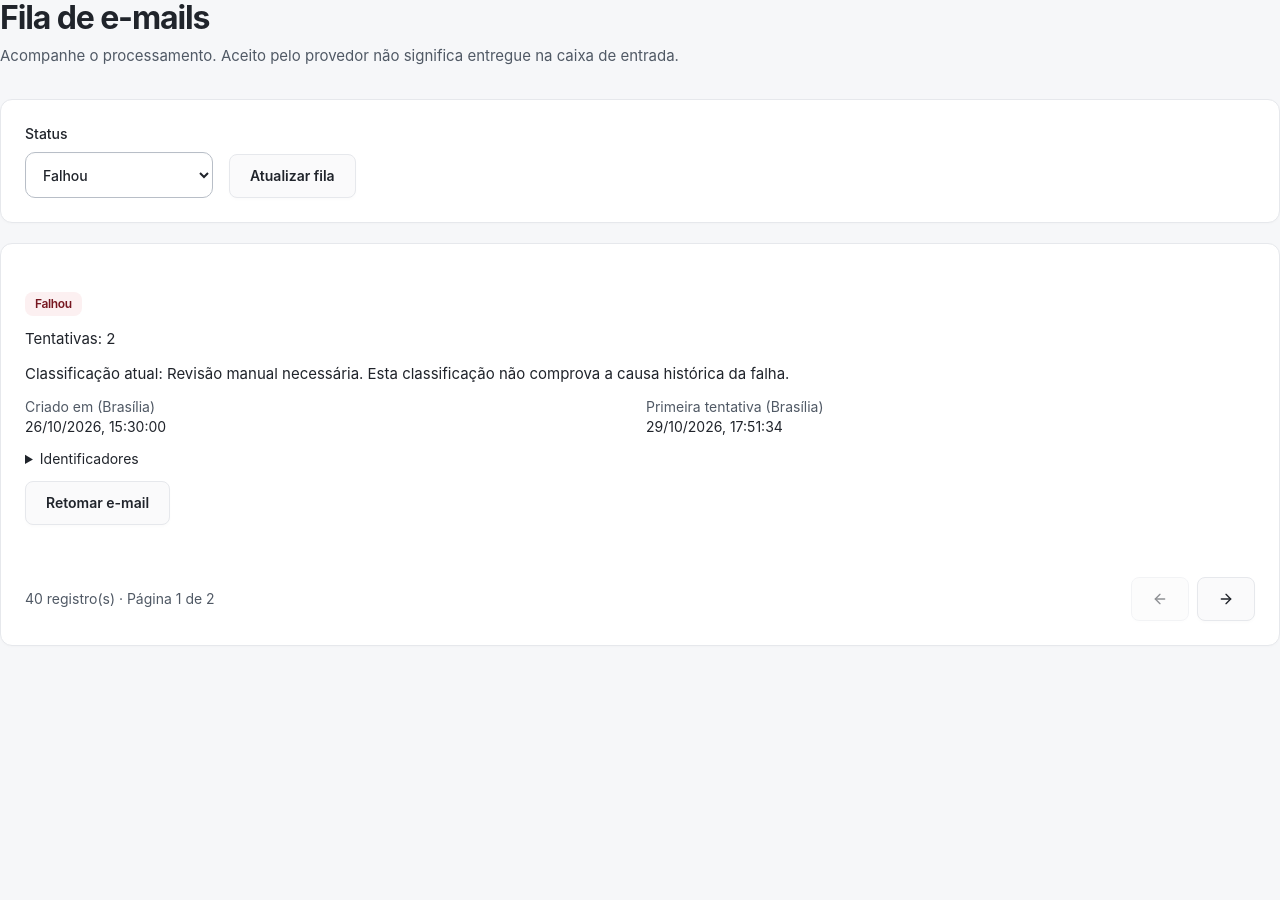
Test: confirma reutilização, impede envio duplo, envia POST sem corpo e recarrega
This screenshot has width=1280, height=900.
Click the button "Retomar e-mail": (98, 503) [25,481,170,525]
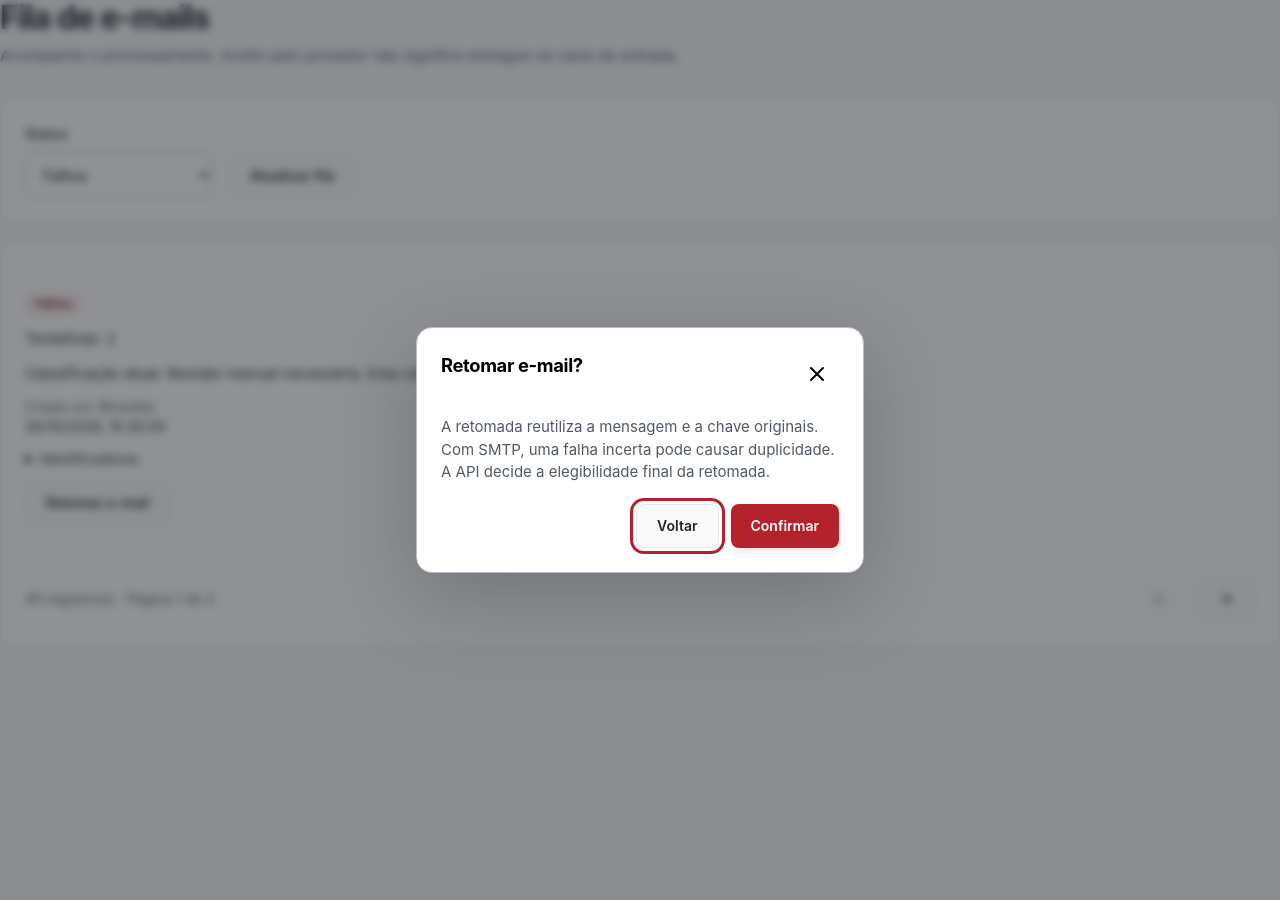
Expected: the text "reutiliza a mensagem e a chave originais" is shown, [441,417,835,481]
Double-click the button "Confirmar": (785, 526) [730,504,839,548]
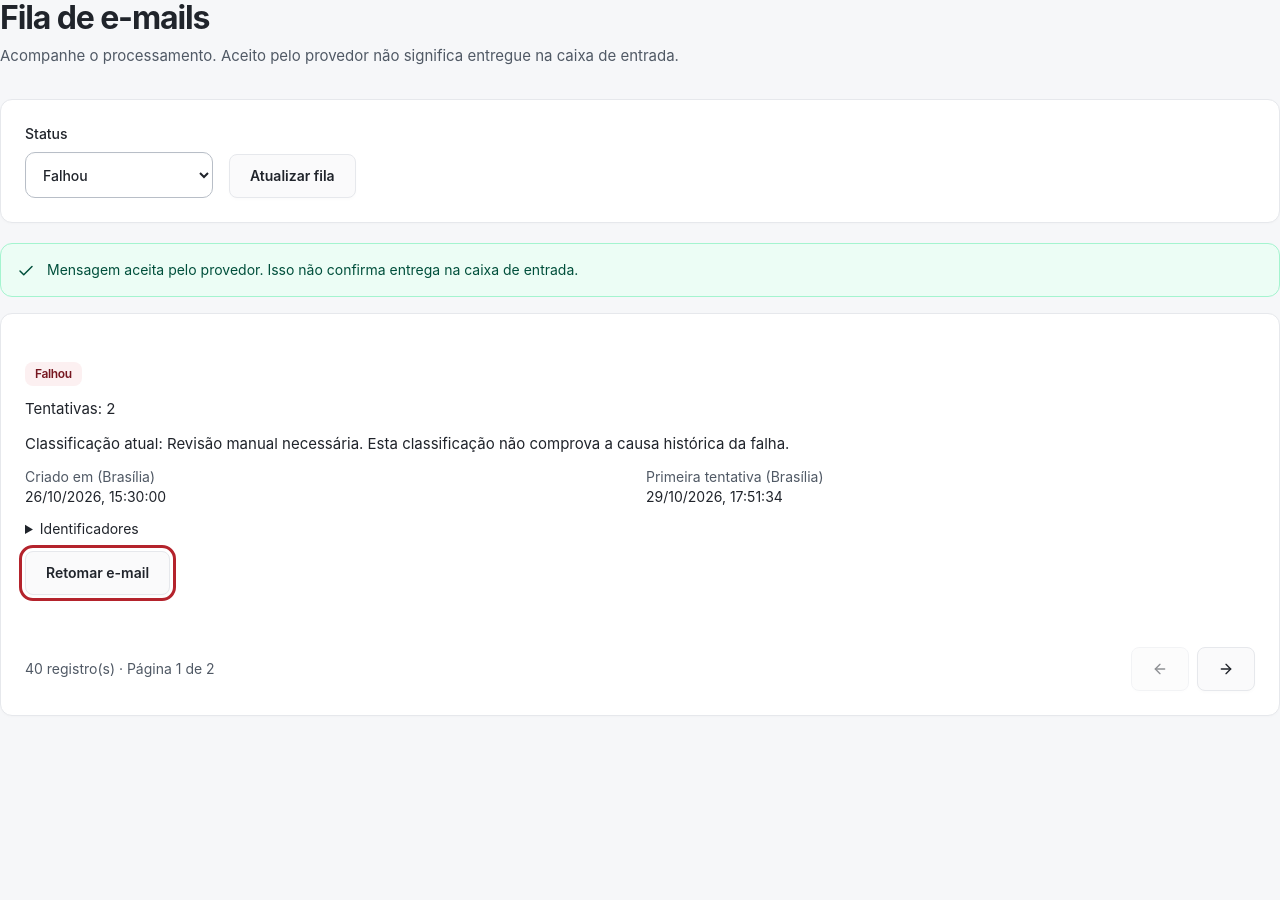
Expected: the text "Mensagem aceita pelo provedor" is shown, [47,261,578,278]
